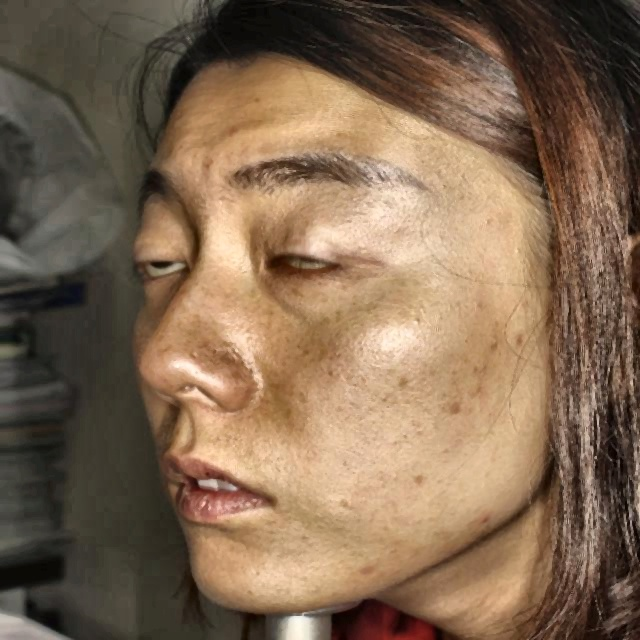comedone: (348, 554, 384, 593), (479, 507, 493, 541)
